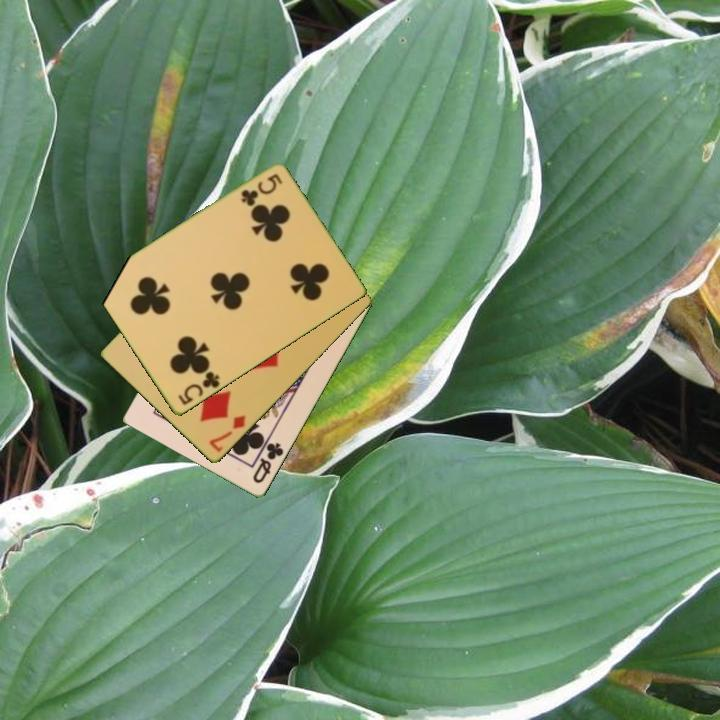5c: (174, 368, 223, 409), (237, 170, 285, 209)
7d: (206, 412, 248, 455)
Qc: (249, 439, 287, 487)
